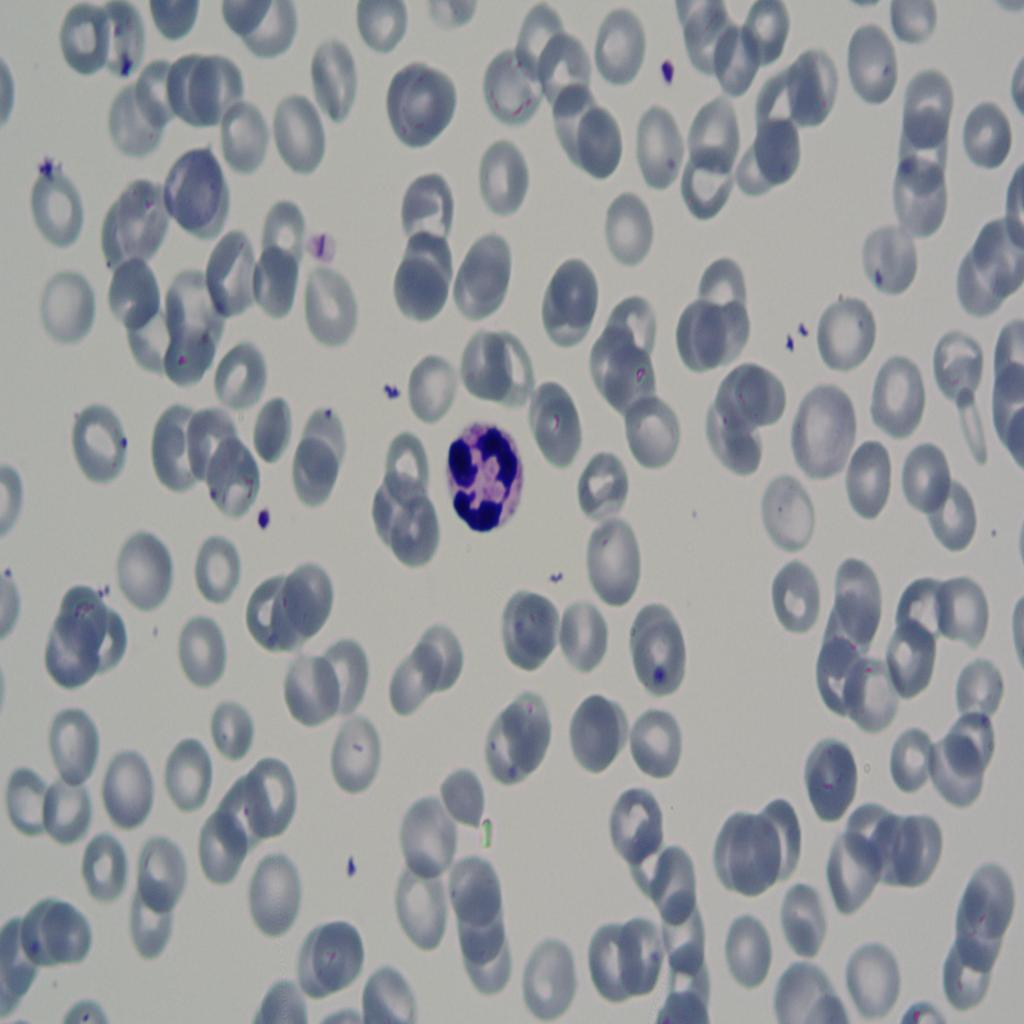Neutrofil: (442, 418, 530, 548)
Platelet: (26, 150, 62, 186), (248, 499, 276, 545), (642, 663, 671, 700), (658, 52, 678, 93)
